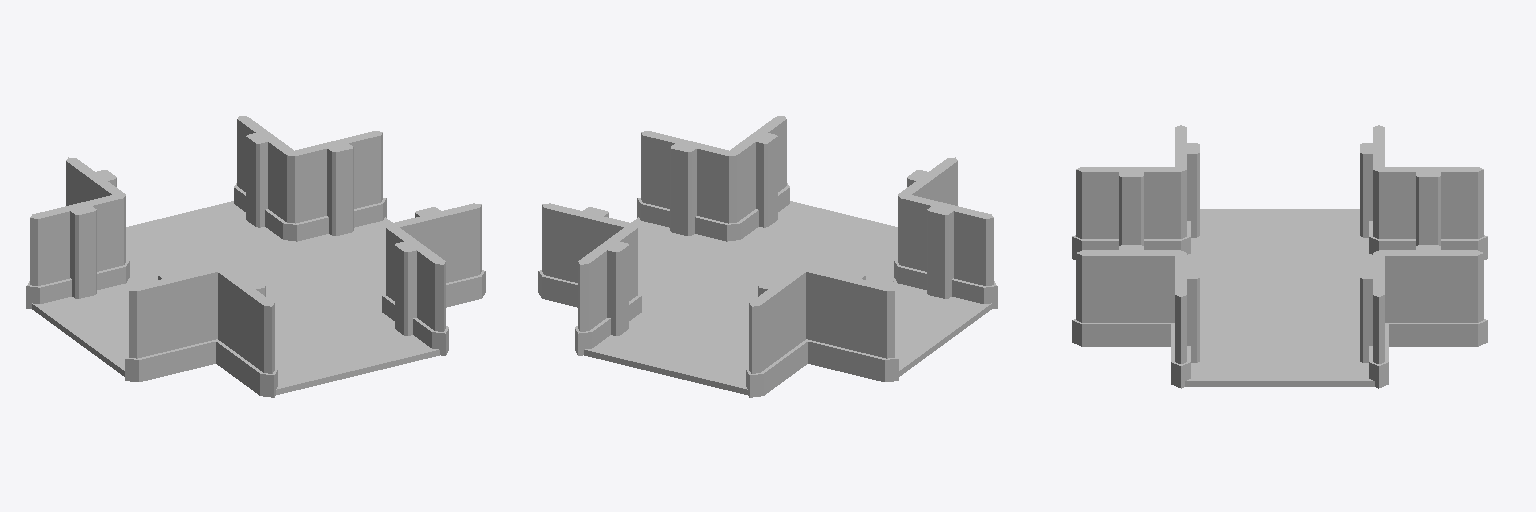
File: intersection_4way_03.obj
3 views of the same model, side by side, from view 1: azimuth 30°, elevation 25°; view 2: azimuth 150°, elevation 25°; view 3: azimuth 270°, elevation 25° (orthographic).
Parts seen in each view (by area): view 1: wall_02_89, wall_02_88, wall_02_85, floor_01_73, floor_04_82, floor_04_80, wall_02_87, wall_02_91, wall_02_84, wall_02_90, floor_04_81, floor_04_79 (+1 smaller); view 2: wall_02_85, wall_02_84, wall_02_88, floor_01_73, floor_04_80, floor_04_82, wall_02_86, wall_02_90, wall_02_89, wall_02_91, floor_04_81, floor_04_79 (+1 smaller); view 3: floor_01_73, wall_02_90, wall_02_91, wall_02_86, wall_02_87, floor_04_79, floor_04_81, wall_02_84, wall_02_89, wall_02_85, wall_02_88.
Part boxes in pixels (x1,y1,x2,y2): wall_02_89: (283,131,386,241); wall_02_88: (26,194,125,308); wall_02_85: (125,266,223,381); floor_01_73: (121,238,383,341); floor_04_82: (275,310,439,394); floor_04_80: (126,201,287,275); wall_02_87: (214,266,277,397); wall_02_91: (382,225,448,355); wall_02_84: (384,203,485,307); wall_02_90: (234,116,296,238); floor_04_81: (32,285,128,376); floor_04_79: (291,217,392,307); wall_02_85: (894,194,997,308); wall_02_84: (637,131,740,241); wall_02_88: (805,266,898,381); floor_01_73: (642,239,893,341); floor_04_80: (584,310,748,394); floor_04_82: (734,201,897,280); wall_02_86: (746,266,809,397); wall_02_90: (575,224,641,355); wall_02_89: (538,203,640,307); wall_02_91: (727,116,789,238); floor_04_81: (888,280,991,376); floor_04_79: (631,217,733,298); floor_01_73: (1187,251,1372,338); wall_02_90: (1374,245,1487,346); wall_02_91: (1072,245,1180,346); wall_02_86: (1369,167,1487,259); wall_02_87: (1072,167,1186,259); floor_04_79: (1185,334,1374,386); floor_04_81: (1191,209,1368,254); wall_02_84: (1171,251,1199,388); wall_02_89: (1360,251,1388,388); wall_02_85: (1175,125,1199,254); wall_02_88: (1360,125,1384,240).
Bounding box in the file's own units: 4.21 × 1 × 4.21.